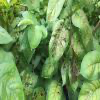Potato leaf early blight: (71, 8, 93, 54), (49, 18, 68, 67), (68, 47, 81, 91), (71, 31, 87, 61), (18, 71, 38, 89), (31, 87, 46, 99)
